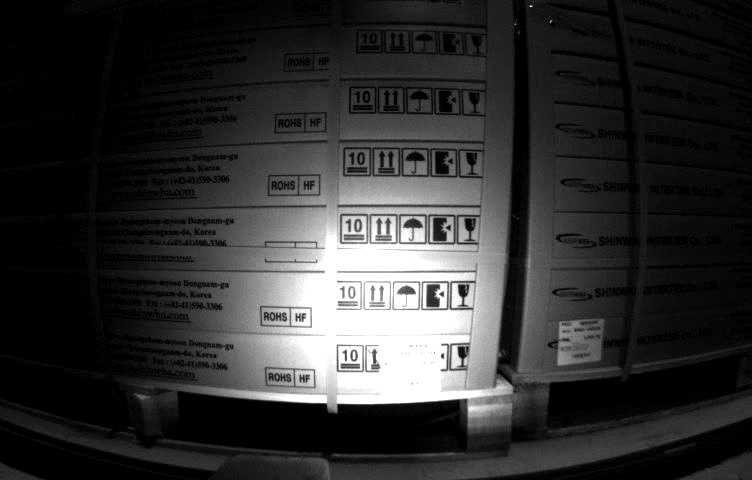True Barcode: (391, 338, 441, 392), (559, 320, 604, 363)
